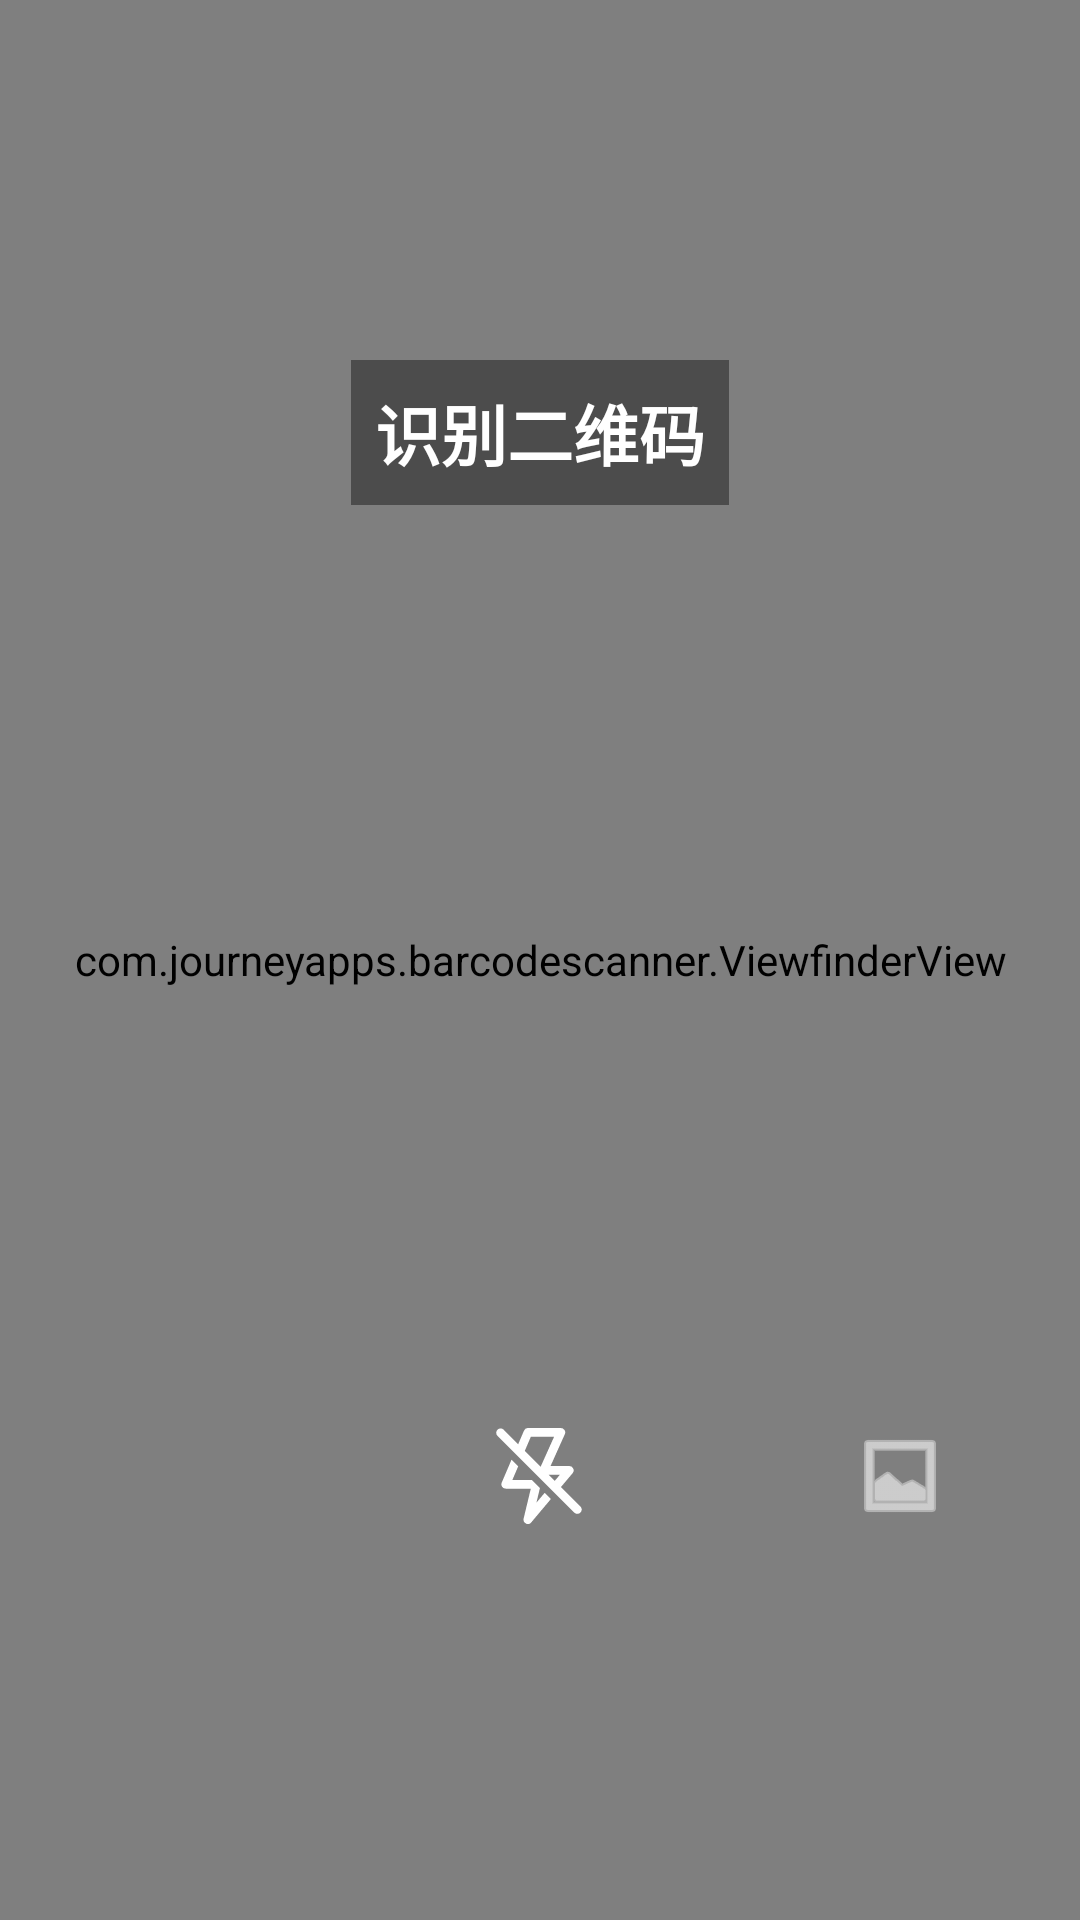

Named icons in this screenshot (1080w x 1920h) and their centers, [x,y]:
手电筒: [539,1476]
相册: [900,1476]
